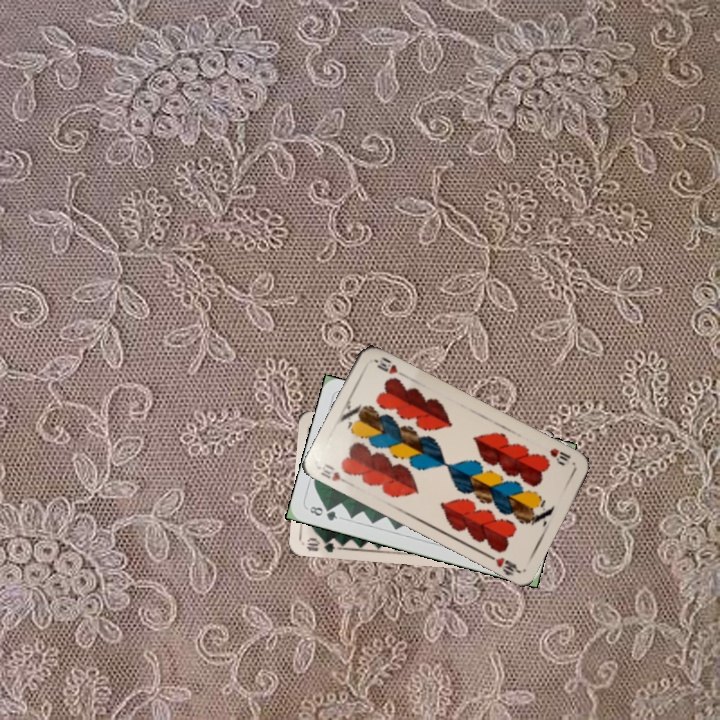G10: (302, 534, 343, 555)
G8: (305, 502, 340, 523)
H10: (315, 460, 353, 488), (545, 444, 573, 468)
